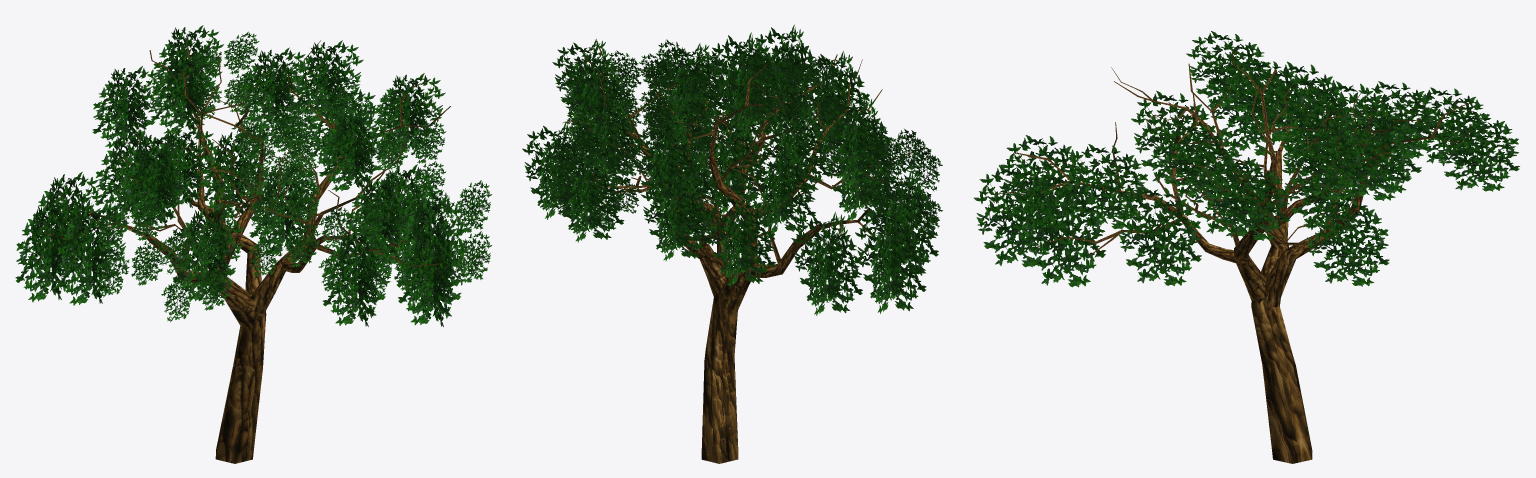
Rendered from LVL_ROAST_MUTTON_INSTANCE_OAK_TREE.obj.
3 views of the same model, side by side, from view 1: azimuth 30°, elevation 25°; view 2: azimuth 150°, elevation 25°; view 3: azimuth 270°, elevation 25° (orthographic). The views are drawn at different scales.
Parts seen in each view (by area): view 1: Trunk; view 2: Trunk; view 3: Trunk.
Part boxes in pixels (left/top/right/bottom): Trunk: left=15, top=25, right=491, bottom=463; Trunk: left=522, top=24, right=942, bottom=463; Trunk: left=974, top=31, right=1519, bottom=463.
Bounding box in the file's own units: 1242 × 1110 × 1404.
